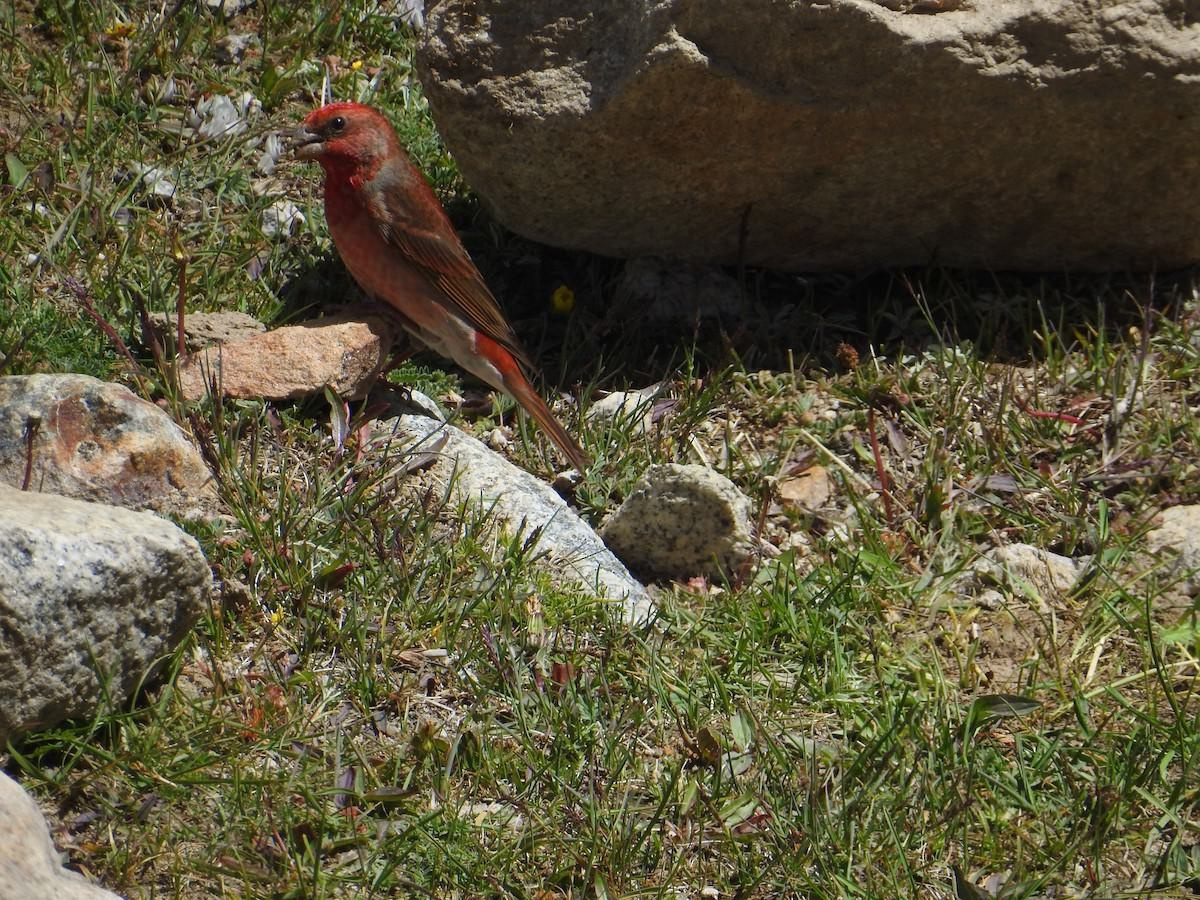rosefinch: (266, 90, 594, 447)
